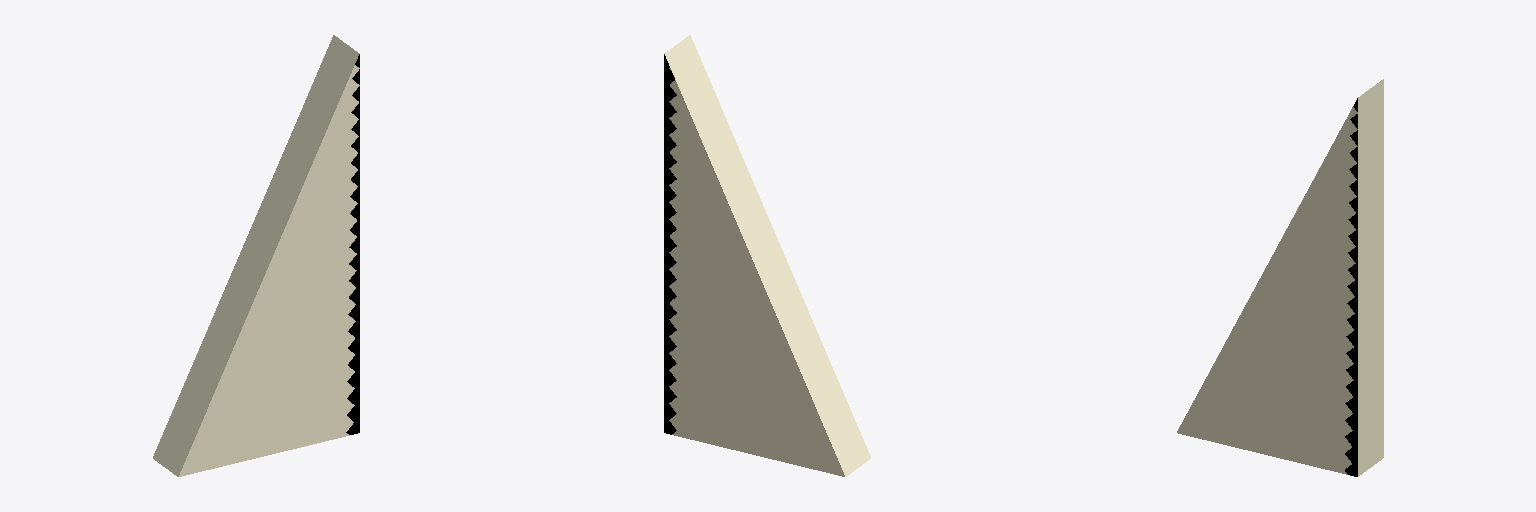
The picture shows the model from 3 angles: view 1: azimuth 30°, elevation 25°; view 2: azimuth 150°, elevation 25°; view 3: azimuth 330°, elevation 25°; orthographic projection.
Parts seen in each view (by area): view 1: ventanaCuarto2:polySurface29base7; view 2: ventanaCuarto2:polySurface29base7; view 3: ventanaCuarto2:polySurface29base7.
Part boxes in pixels (bbox=[...]): ventanaCuarto2:polySurface29base7: bbox=[153, 35, 359, 476]; ventanaCuarto2:polySurface29base7: bbox=[664, 35, 870, 476]; ventanaCuarto2:polySurface29base7: bbox=[1177, 79, 1383, 476].
Size of the model in its own units: 0.1815 by 0.3631 by 0.045.
1 materials, 1 textured.